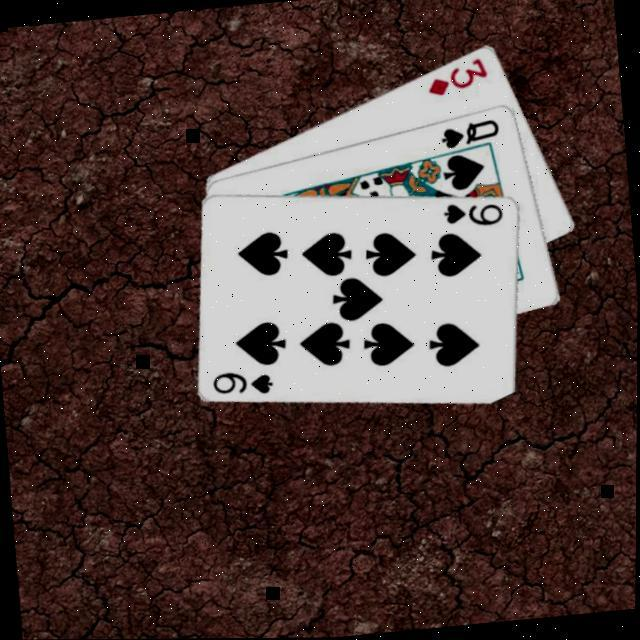3D: (422, 55, 491, 101)
9S: (439, 197, 506, 233), (209, 365, 276, 401)
QS: (436, 116, 502, 152)
